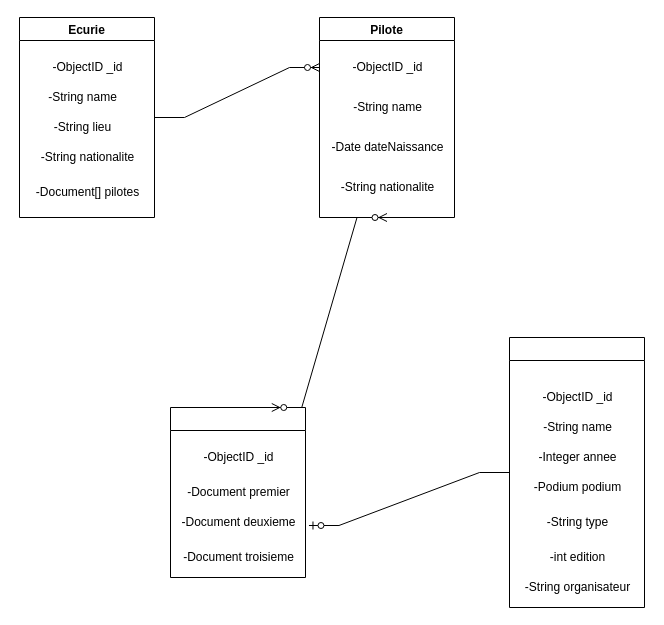
The diagram is 664 pixels wide and 625 high, and some of its shapes have lost their labels. Each missing label, with the box of its shape:
Competition: (508, 336, 644, 608)
Podium: (170, 406, 306, 578)
